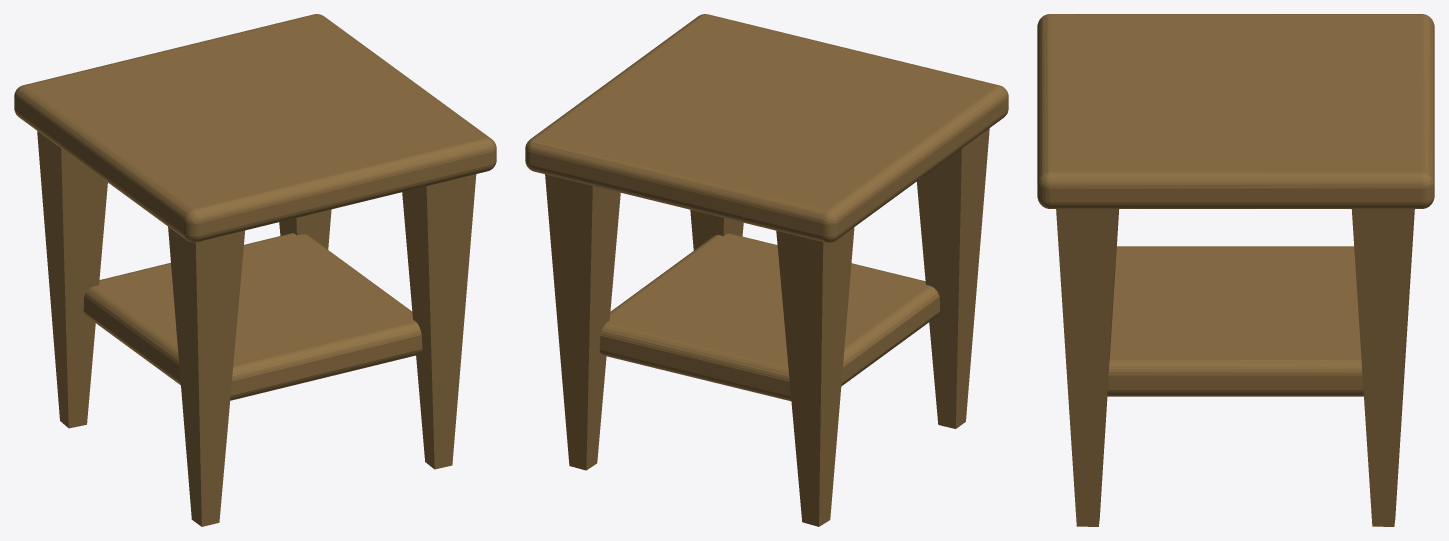
File: end_table_1.glb
The picture shows the model from 3 angles, left to right: view 1: azimuth 30°, elevation 25°; view 2: azimuth 150°, elevation 25°; view 3: azimuth 270°, elevation 25°; orthographic projection. The views are drawn at different scales.
Parts seen in each view (by area): view 1: Mesh_Mesh_head_geo.001_lambert2SG.001; view 2: Mesh_Mesh_head_geo.001_lambert2SG.001; view 3: Mesh_Mesh_head_geo.001_lambert2SG.001.
Part boxes in pixels (box(x1,y1,x2,y2)): Mesh_Mesh_head_geo.001_lambert2SG.001: box(14, 14, 496, 526); Mesh_Mesh_head_geo.001_lambert2SG.001: box(525, 14, 1008, 526); Mesh_Mesh_head_geo.001_lambert2SG.001: box(1037, 14, 1434, 526).
Size of the model in its own units: 2 by 2.03 by 2.
